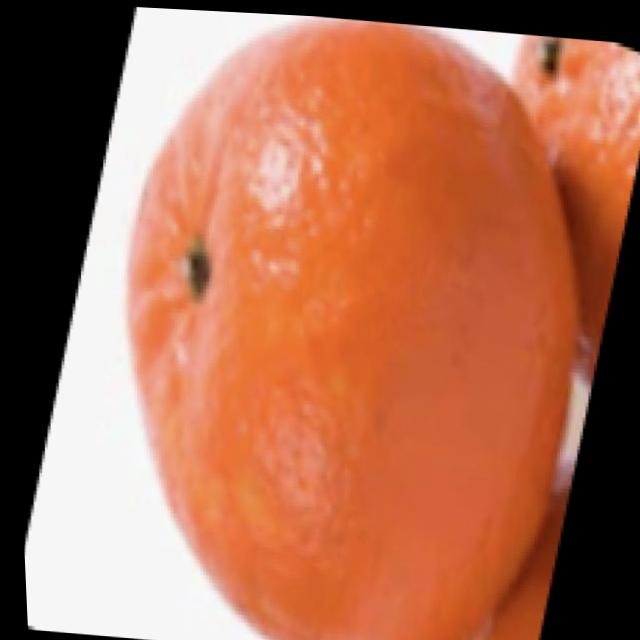Orange: (99, 4, 599, 640), (498, 26, 640, 395), (453, 443, 577, 640)
